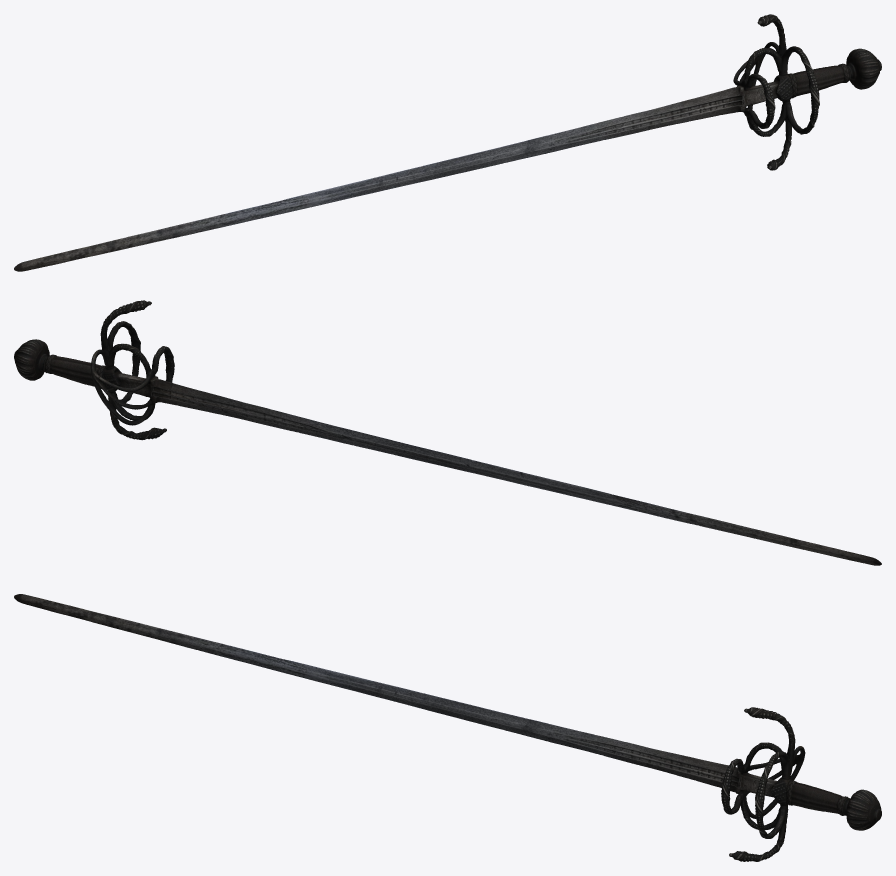
Rendered from milanese_rapier.glb.
3 views of the same model, one above another, from view 1: azimuth 30°, elevation 25°; view 2: azimuth 150°, elevation 25°; view 3: azimuth 330°, elevation 25° (orthographic).
Parts seen in each view (by area): view 1: Object_2, Object_3; view 2: Object_2, Object_3; view 3: Object_2, Object_3.
Part boxes in pixels (x1,y1,x2,y2): Object_2: [14, 14, 881, 271]; Object_3: [626, 49, 790, 136]; Object_2: [14, 300, 881, 565]; Object_3: [106, 345, 276, 426]; Object_2: [14, 594, 881, 861]; Object_3: [625, 742, 785, 824].
Bounding box in the file's own units: 119 × 19.2 × 12.36.
Materials: 1 (1 with a texture image).
